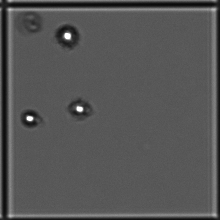Dead Cell: (20, 11, 45, 37)
Living Cell: (56, 20, 82, 50), (16, 104, 41, 132), (68, 97, 90, 124)
